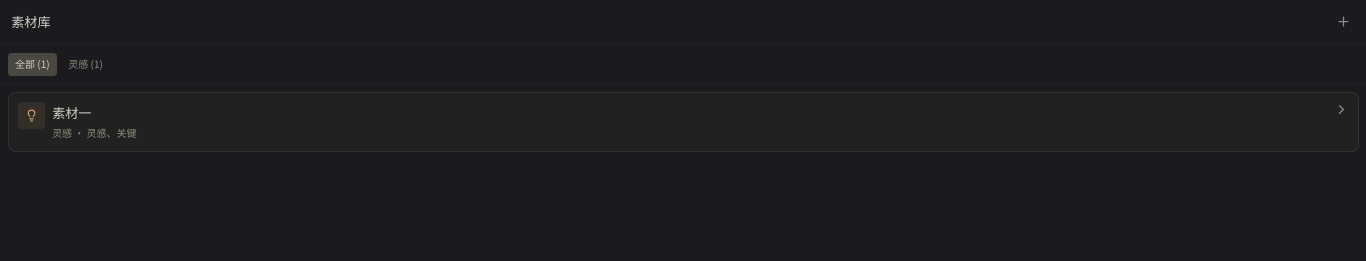
it: MaterialsPanel › 再次点击卡片折叠
Click the text "素材一": (71, 113) [52,102,91,123]
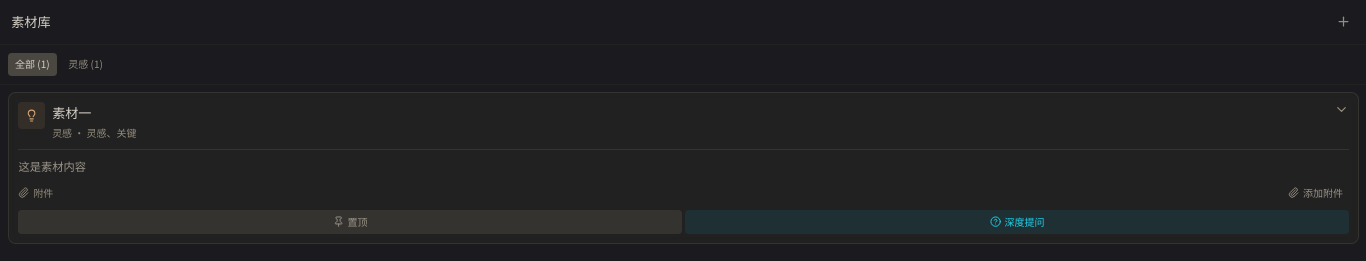
Result: the text "这是素材内容" is shown at [18,158,85,174]
Click the text "素材一": (71, 113) [52,102,91,123]
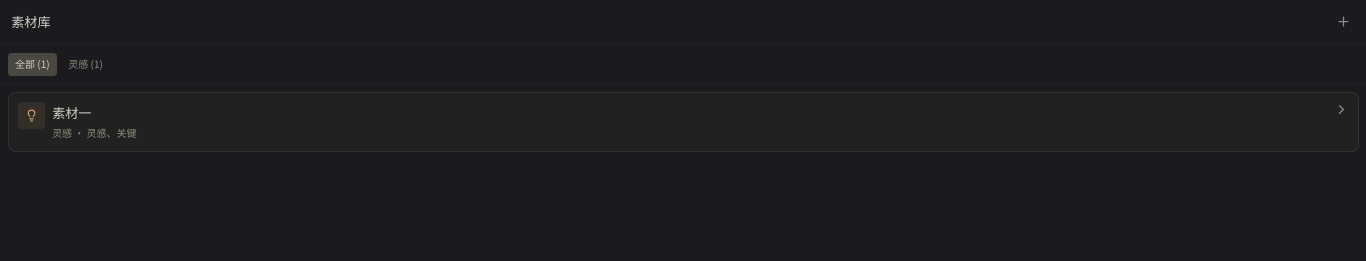
Result: the text "这是素材内容" is gone
